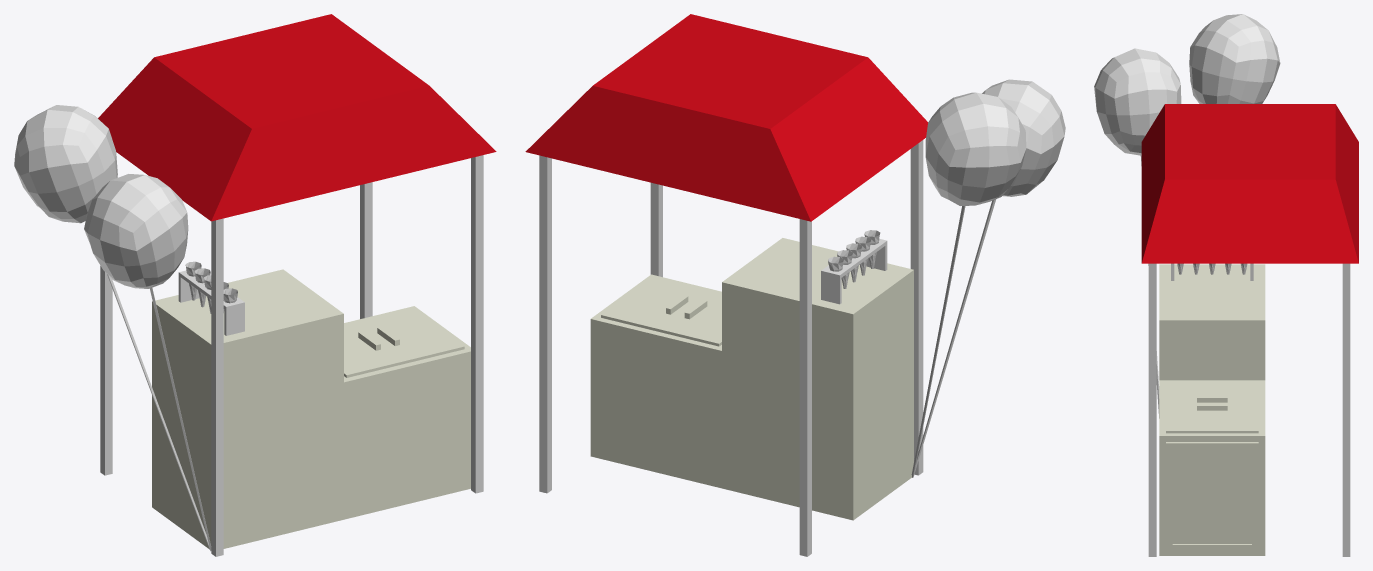
Rendered from IceCreamStand.fbx.
3 views of the same model, side by side, from view 1: azimuth 30°, elevation 25°; view 2: azimuth 150°, elevation 25°; view 3: azimuth 270°, elevation 25° (orthographic). The views are drawn at different scales.
Parts seen in each view (by area): view 1: Box055, IceCreamStand_Top, Balloon1, Balloon2, Box057, Box056, Box059, Box058, Box060, Balloon2_String, Balloon1_String; view 2: Box055, IceCreamStand_Top, Balloon2, Balloon1, Box059, Box058, Box056, Box060, Box057, Balloon1_String, Balloon2_String; view 3: IceCreamStand_Top, Box055, Balloon2, Balloon1, Box057, Box058.
Part boxes in pixels (left/top/right/bottom): Box055: left=152, top=269, right=470, bottom=549; IceCreamStand_Top: left=98, top=14, right=496, bottom=221; Balloon1: left=84, top=174, right=188, bottom=288; Balloon2: left=14, top=105, right=117, bottom=223; Box057: left=471, top=155, right=483, bottom=493; Box056: left=211, top=218, right=223, bottom=556; Box059: left=100, top=266, right=112, bottom=475; Box058: left=360, top=182, right=372, bottom=318; Box060: left=178, top=270, right=244, bottom=335; Balloon2_String: left=107, top=274, right=210, bottom=550; Balloon1_String: left=150, top=288, right=211, bottom=551; Box055: left=590, top=238, right=913, bottom=520; IceCreamStand_Top: left=525, top=14, right=927, bottom=221; Balloon2: left=925, top=92, right=1026, bottom=205; Balloon1: left=982, top=79, right=1065, bottom=196; Box059: left=799, top=219, right=811, bottom=556; Box058: left=539, top=155, right=551, bottom=493; Box056: left=910, top=140, right=923, bottom=475; Box060: left=821, top=238, right=887, bottom=304; Box057: left=650, top=182, right=662, bottom=277; Balloon1_String: left=912, top=199, right=995, bottom=477; Balloon2_String: left=911, top=206, right=965, bottom=477; IceCreamStand_Top: left=1141, top=104, right=1358, bottom=263; Box055: left=1159, top=264, right=1265, bottom=555; Balloon2: left=1189, top=14, right=1280, bottom=103; Balloon1: left=1094, top=48, right=1181, bottom=155; Box057: left=1148, top=263, right=1156, bottom=556; Box058: left=1342, top=263, right=1350, bottom=556.
Bounding box in the file's own units: 1615 × 1589 × 1001.
